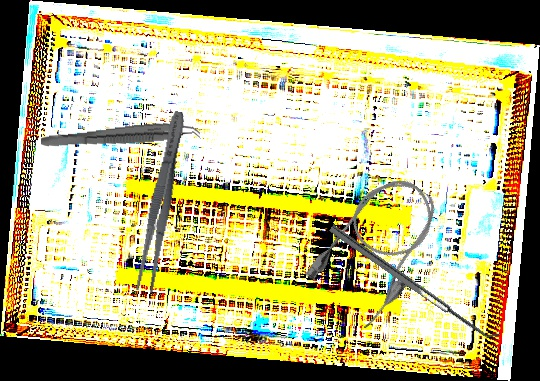Cannula: (299, 163, 458, 334)
Dressing Forceps: (132, 109, 191, 294)
Spatula Surgical: (328, 217, 502, 346)
Tissue Forceps: (40, 118, 201, 157)
